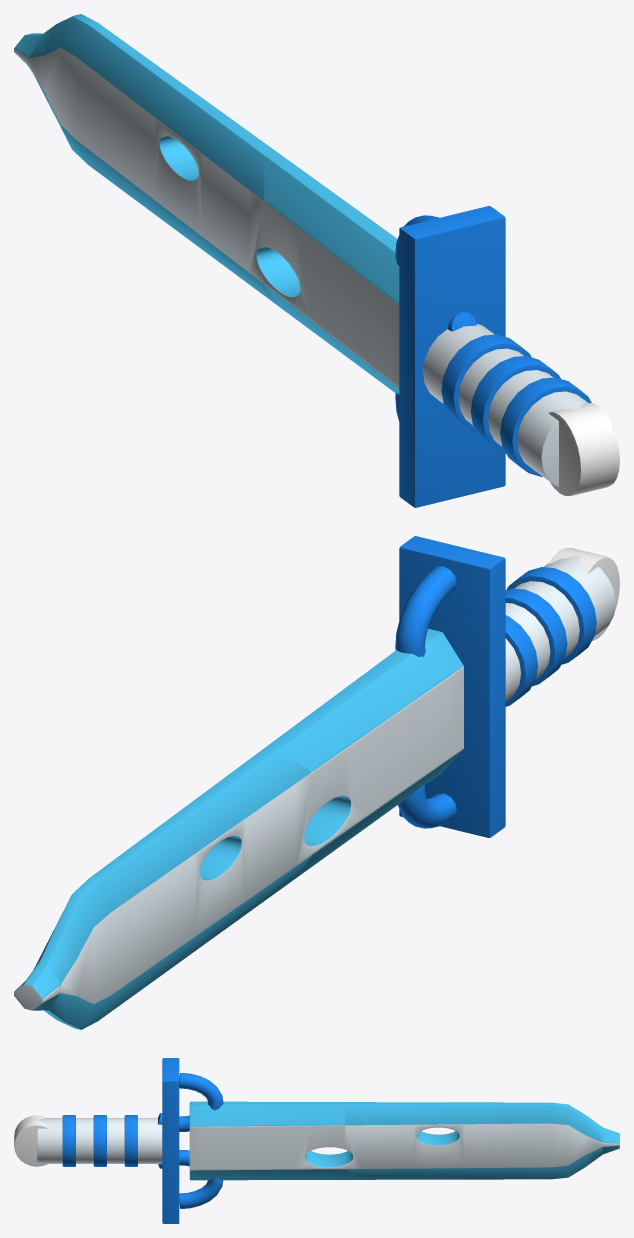
The model's file is Sword_HoarwindClaymore.glb.
3 views of the same model, one above another, from view 1: azimuth 30°, elevation 25°; view 2: azimuth 150°, elevation 25°; view 3: azimuth 270°, elevation 25° (orthographic). The views are drawn at different scales.
Parts seen in each view (by area): view 1: Sword_HoarwindClaymore; view 2: Sword_HoarwindClaymore; view 3: Sword_HoarwindClaymore.
Boxes of the visible parts, box(x1,y1,x2,y2) form: Sword_HoarwindClaymore: box(14, 14, 619, 507); Sword_HoarwindClaymore: box(14, 536, 619, 1029); Sword_HoarwindClaymore: box(14, 1058, 619, 1223).
Bounding box in the file's own units: 0.092 × 0.26 × 1.
Materials: 1 (1 with a texture image).
